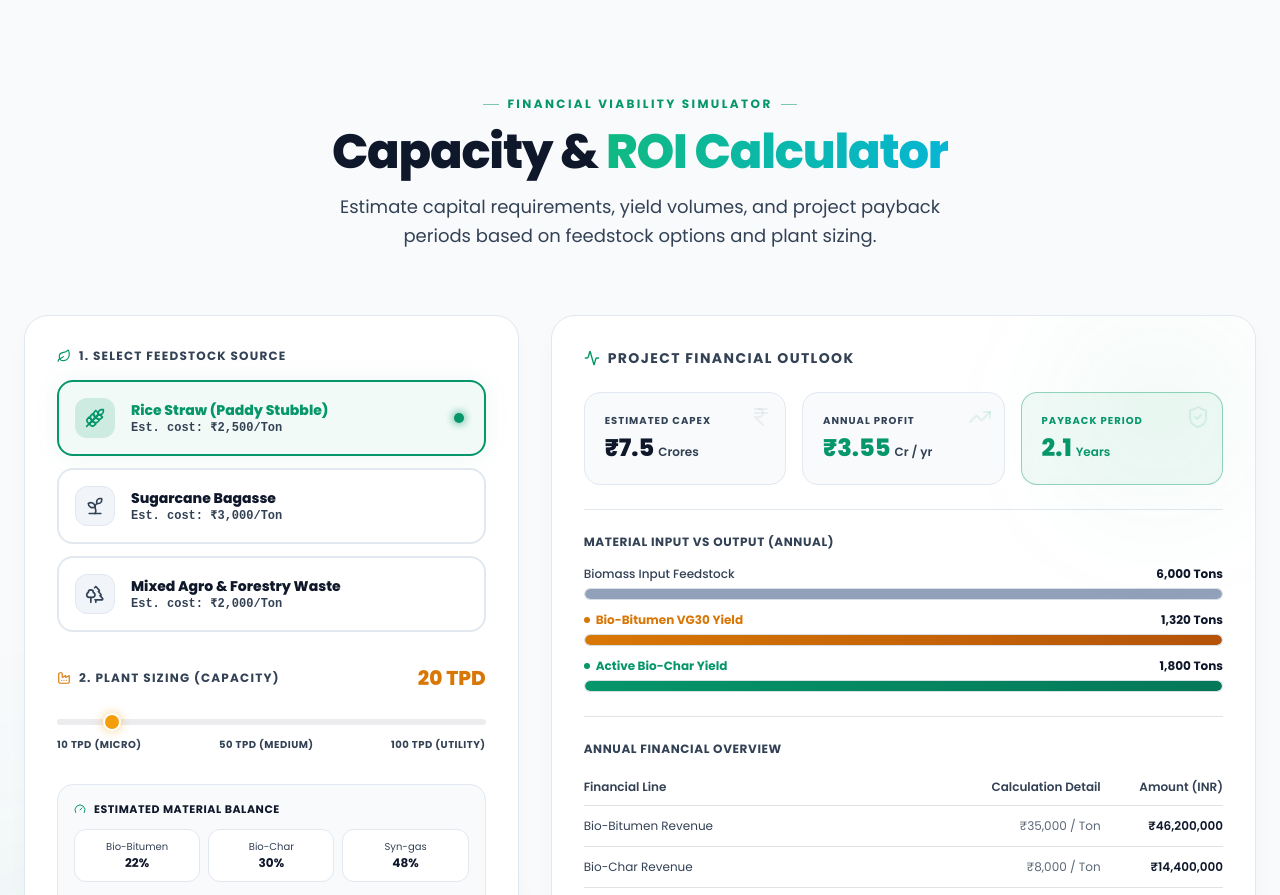
Test: CapacityCalculator › calculates CapEx dynamically based on capacity slider change
The width and height of the screenshot is (1280, 895).
Expected: the text "₹7.5" is shown, [605,432,654,464]
Note: Change capacity to 50 TPD
Set the slider with test id "capacity-slider" to "50": (248, 722) [57,718,486,724]
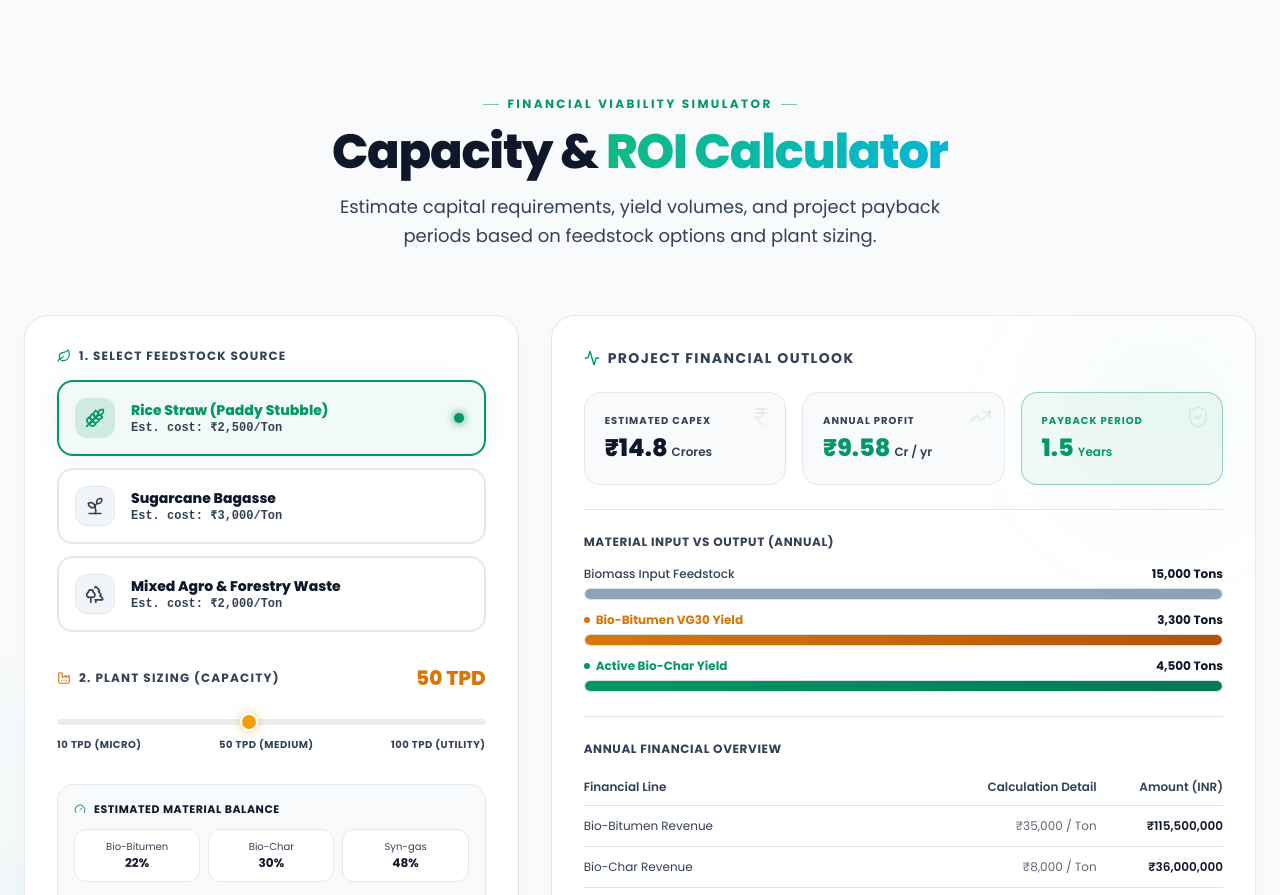
Expected: the text "₹14.8" is shown, [605,432,668,464]
Note: Change capacity to 10 TPD
Set the slider with test id "capacity-slider" to "10": (65, 722) [57,718,486,724]
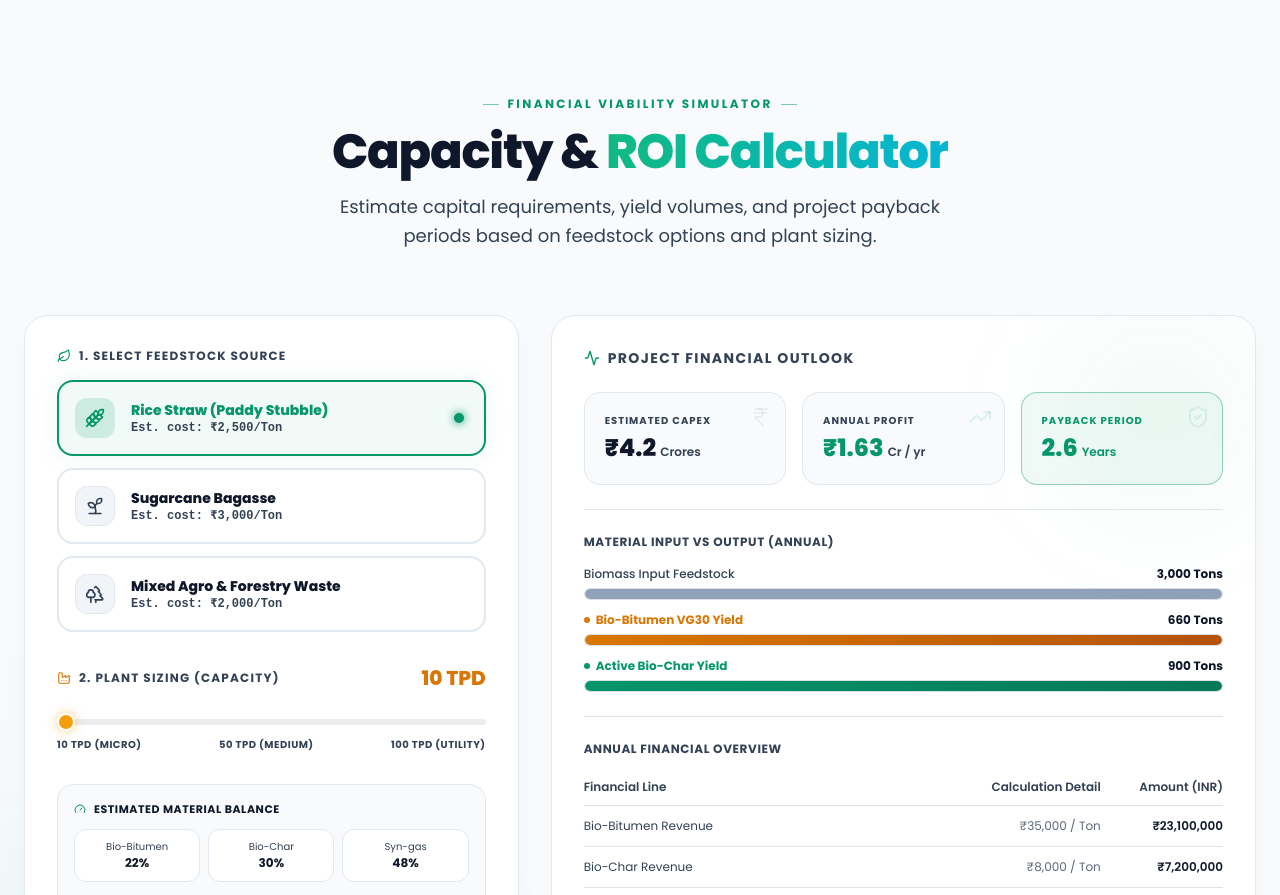
Expected: the text "₹4.2" is shown, [605,432,656,464]
